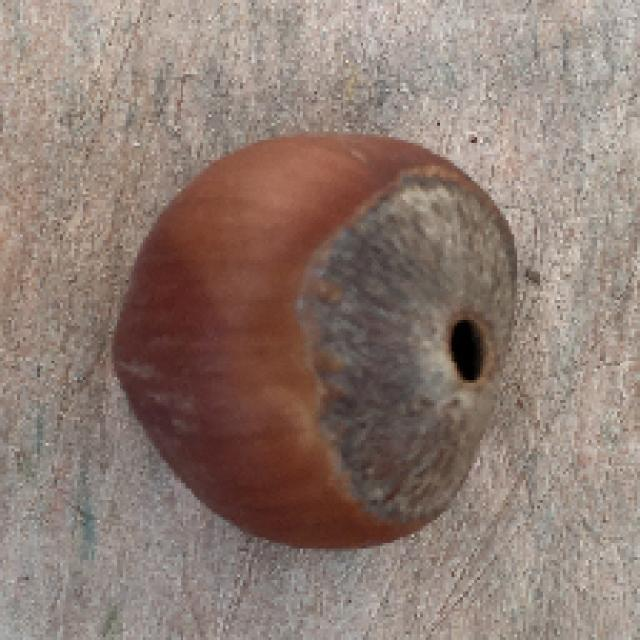damagedHazelnut: (104, 132, 526, 552)
